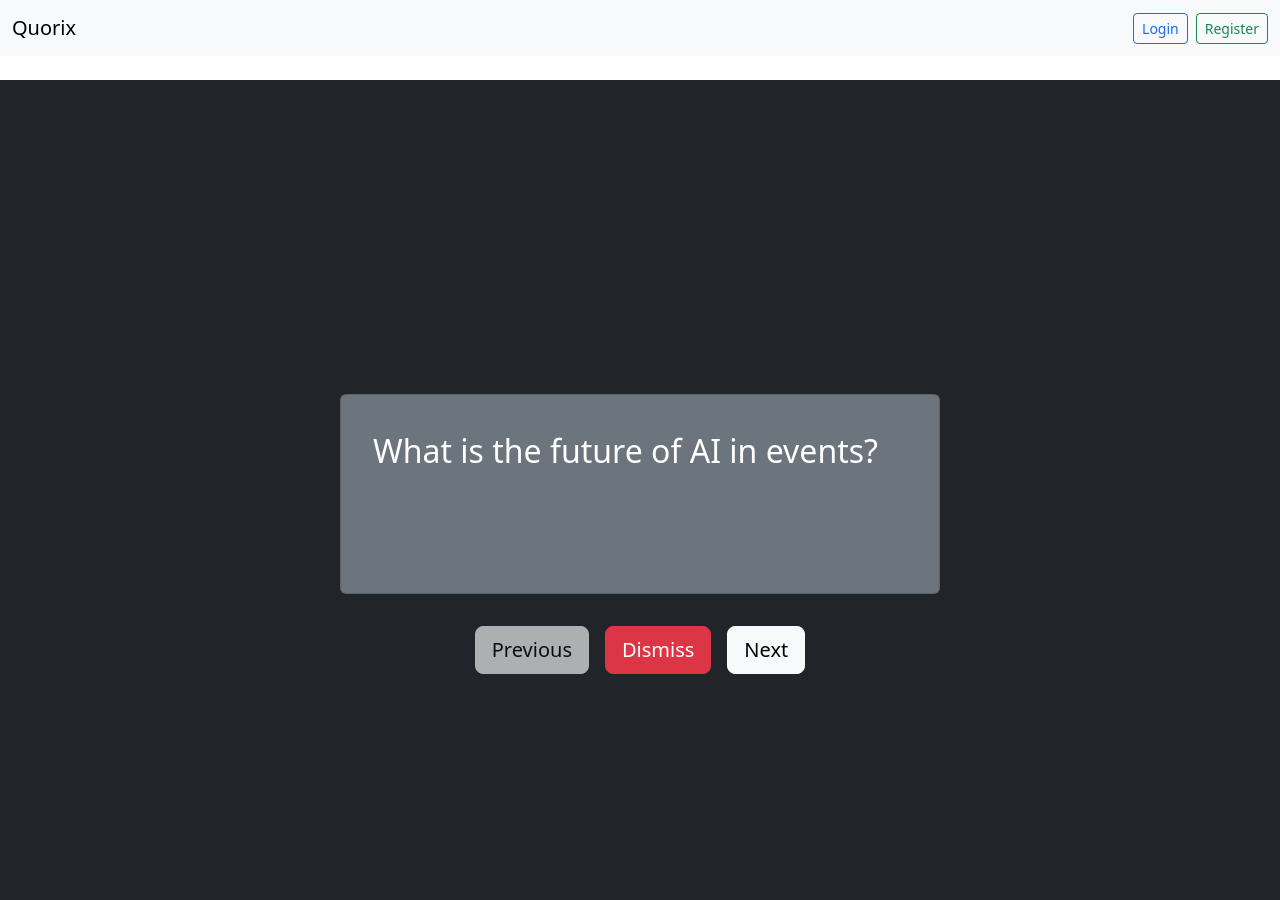
SpeakerView › dismisses the current question
Expected: the text "What is the future of AI in events?" is shown, [373,427,907,475]
Click the button "Dismiss": (658, 650) [605,626,711,674]
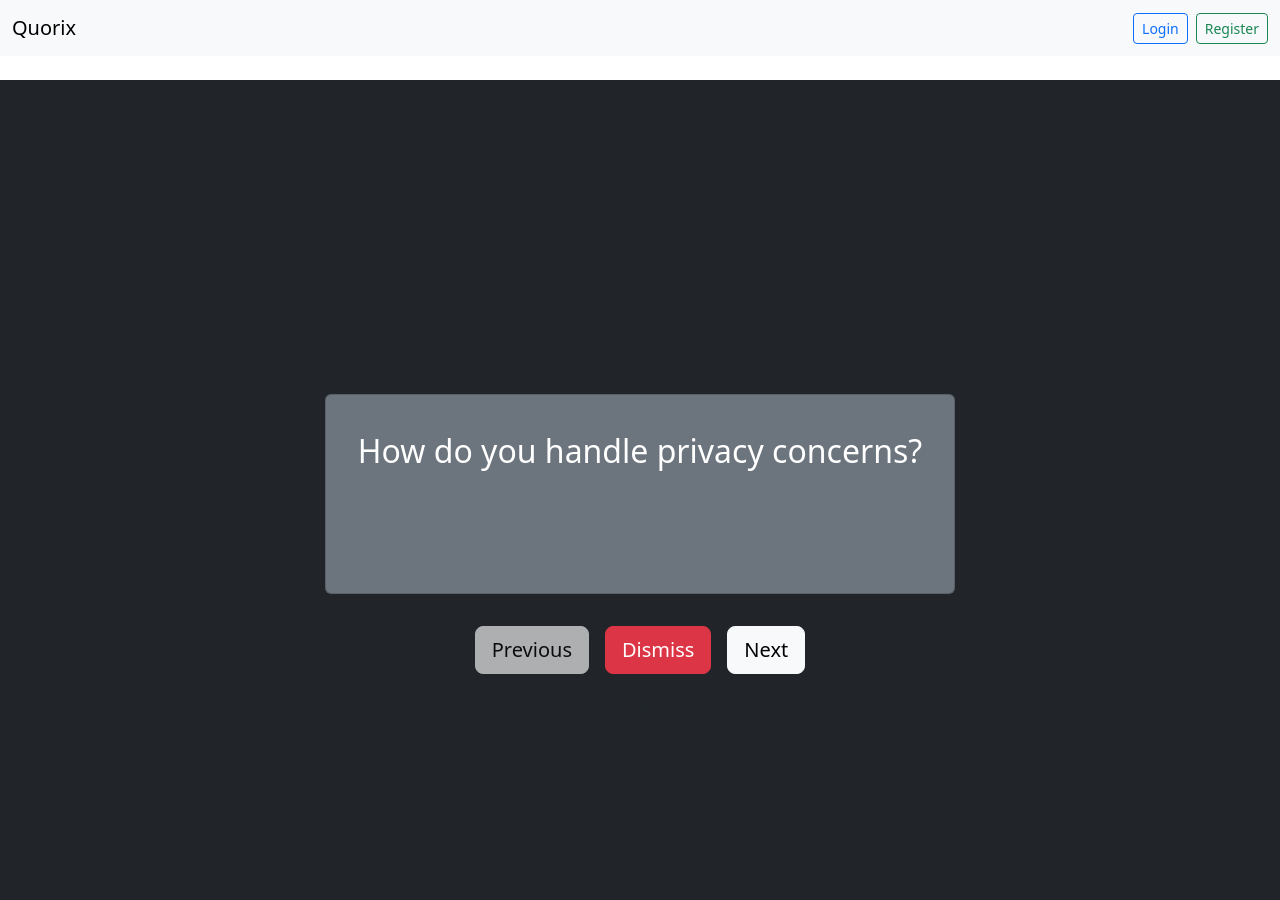
Expected: the text "How do you handle privacy concerns?" is shown, [358,427,922,475]
